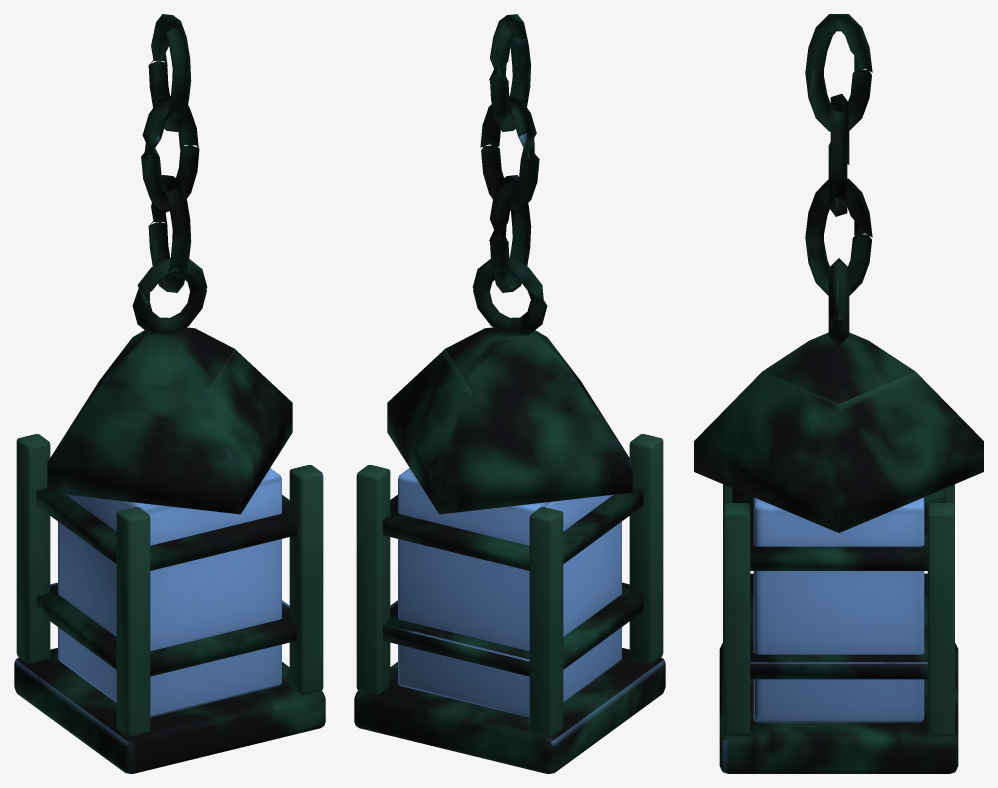
File: storm_lantern.obj
The picture shows the model from 3 angles, left to right: view 1: azimuth 30°, elevation 25°; view 2: azimuth 150°, elevation 25°; view 3: azimuth 270°, elevation 25°; orthographic projection. The views are drawn at different scales.
Parts seen in each view (by area): view 1: part0, fire, part2; view 2: part0, fire, part2; view 3: part0, fire, part2.
Boxes of the visible parts, box(x1,y1,x2,y2) form: part0: box(14, 14, 325, 773); fire: box(58, 468, 281, 717); part2: box(16, 434, 323, 737); part0: box(354, 14, 665, 773); fire: box(398, 468, 621, 717); part2: box(356, 434, 663, 737); part0: box(694, 14, 983, 773); fire: box(753, 497, 924, 722); part2: box(723, 484, 954, 735).
Size of the model in its own units: 0.34 by 0.9211 by 0.34.
